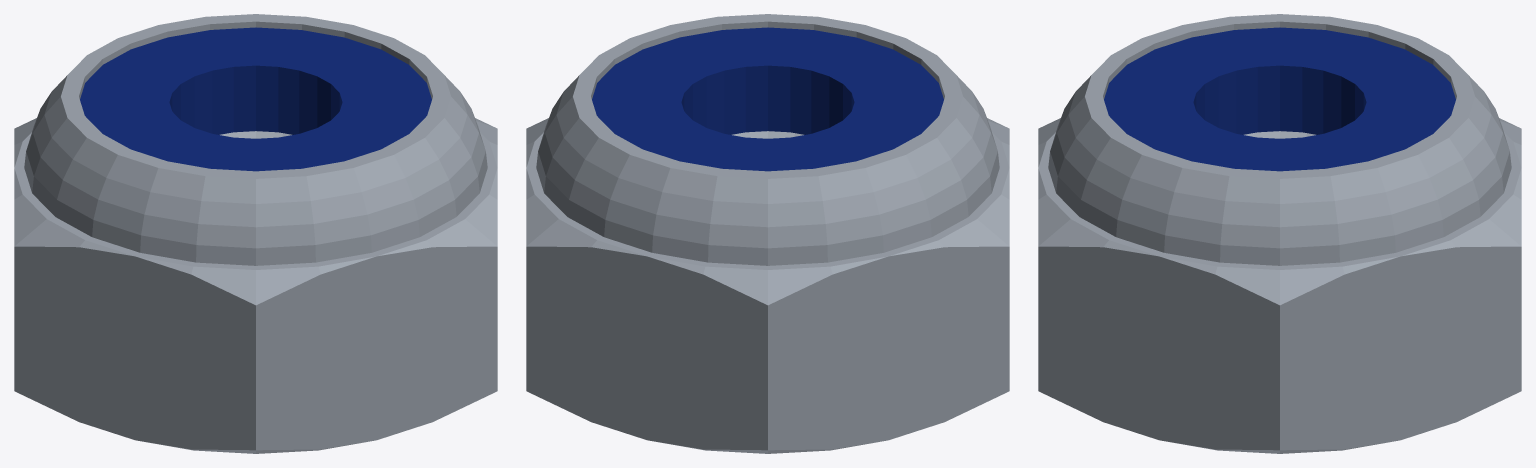
Rendered from model_display.glb.
The picture shows the model from 3 angles, left to right: view 1: azimuth 30°, elevation 25°; view 2: azimuth 150°, elevation 25°; view 3: azimuth 270°, elevation 25°; orthographic projection.
Parts seen in each view (by area): view 1: steel, nylon_insert; view 2: steel, nylon_insert; view 3: steel, nylon_insert.
Part boxes in pixels (<box>): steel: <box>14,14,497,453</box>; nylon_insert: <box>80,27,431,171</box>; steel: <box>526,14,1009,453</box>; nylon_insert: <box>592,27,943,171</box>; steel: <box>1038,14,1521,453</box>; nylon_insert: <box>1104,27,1455,171</box>.
Size of the model in its own units: 0.00346 by 0.00175 by 0.003.
